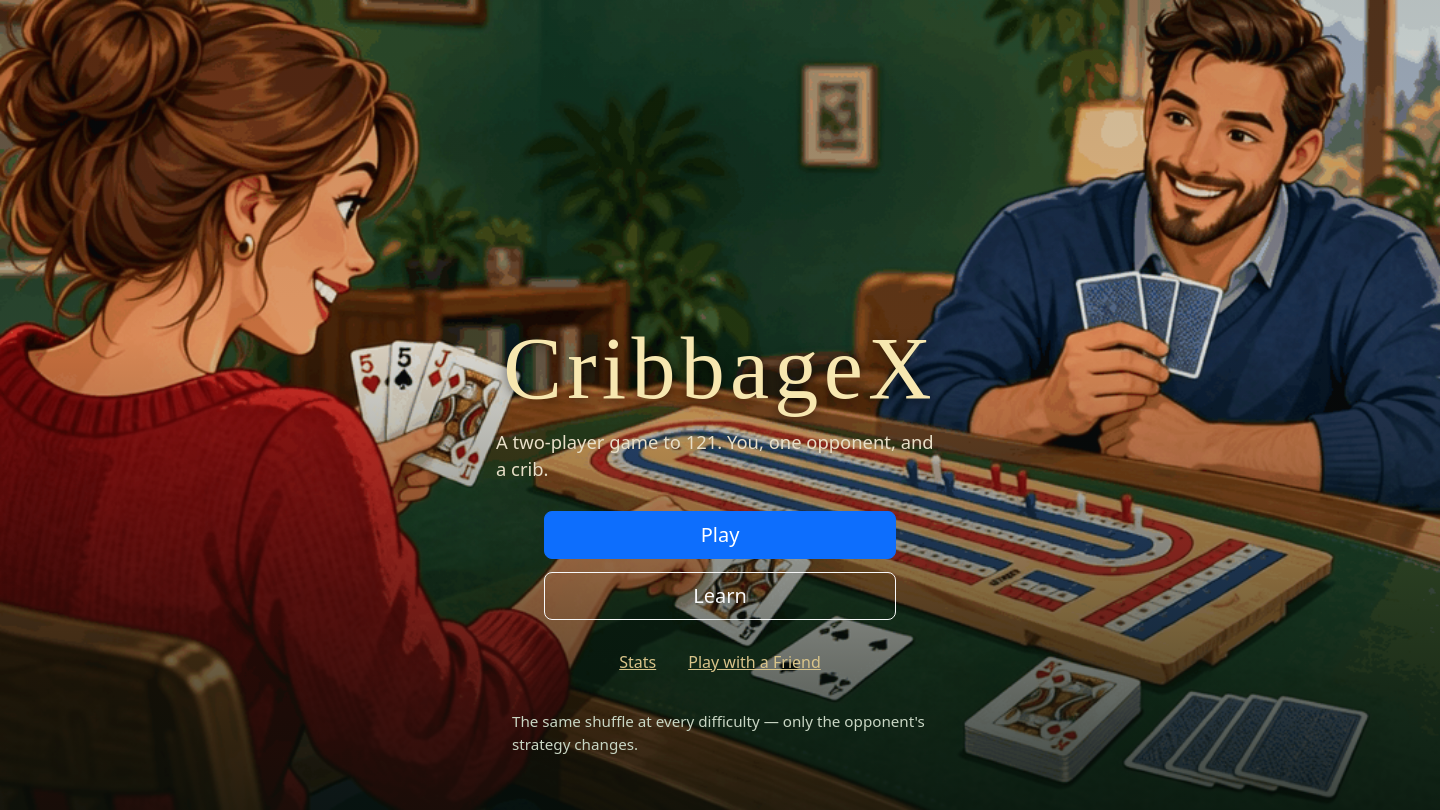
Test: T7 shell routing › shows the committed tagline, fairness line, and secondary links
This screenshot has width=1440, height=810.
Check: the heading "CribbageX" is shown, box [503,316,937,421]
Check: the text "A two-player game to 121. You, one opponent, and a crib." is shown, box [496,428,944,483]
Click the button "Stats" at (638, 662), box [615,646,660,678]
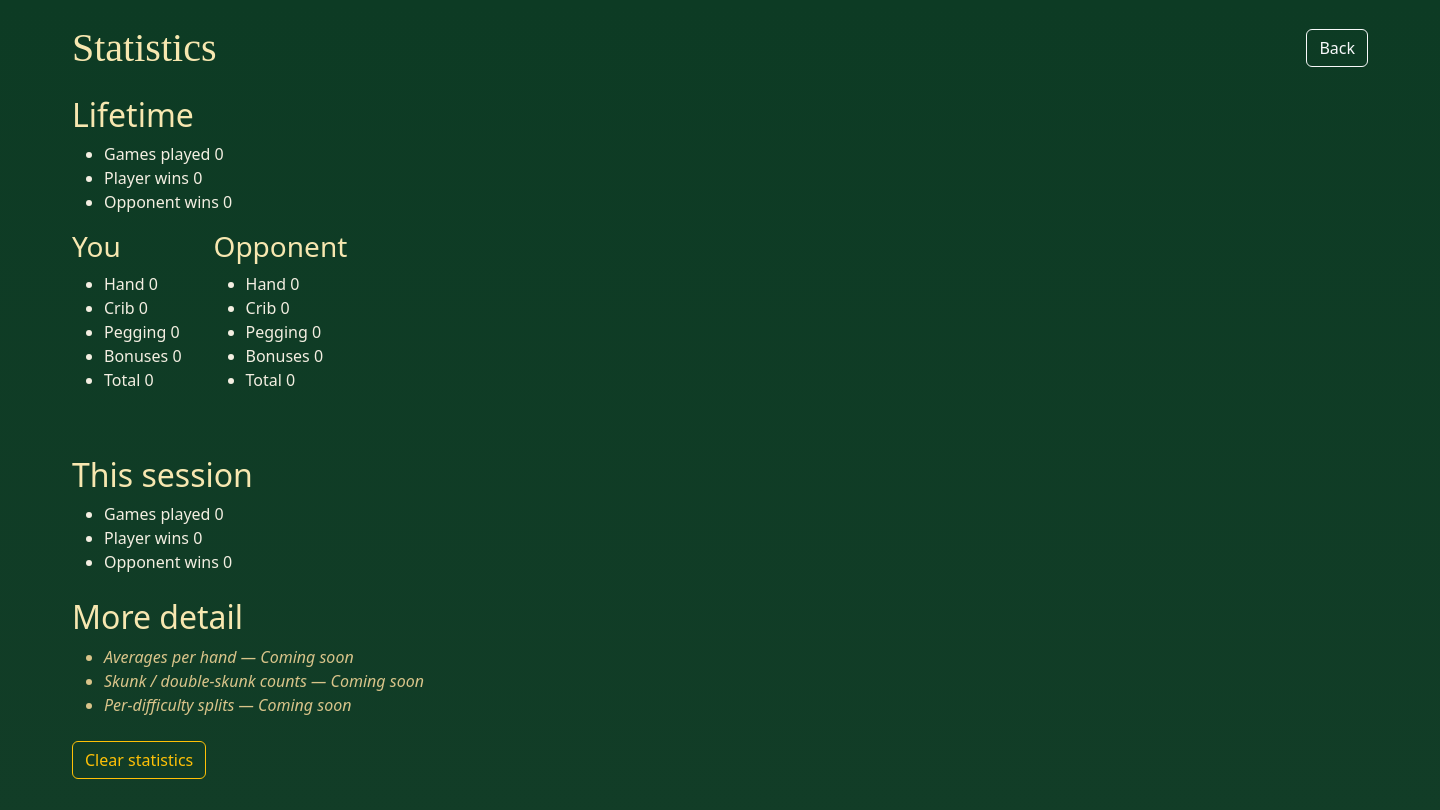
Check: the heading "Statistics" is shown, box [72,24,216,72]
